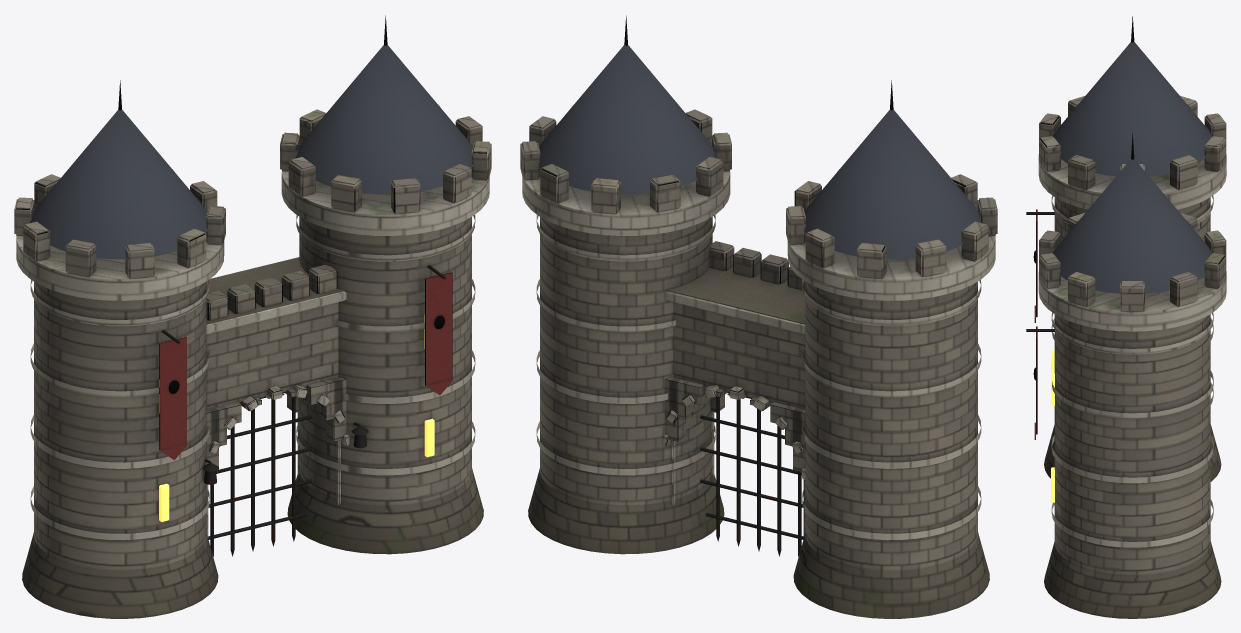
Rendered from edificio_portao_fortificado.glb.
3 renders of one model, left to right at view 1: azimuth 30°, elevation 25°; view 2: azimuth 150°, elevation 25°; view 3: azimuth 270°, elevation 25°, orthographic. The views are drawn at different scales.
Parts seen in each view (by area): view 1: edificio_portao_fortificado, edificio_portao_fortificado_grade; view 2: edificio_portao_fortificado, edificio_portao_fortificado_grade; view 3: edificio_portao_fortificado.
Part boxes in pixels (x1,y1,x2,y2): edificio_portao_fortificado: (14,15,491,618); edificio_portao_fortificado_grade: (208,392,311,556); edificio_portao_fortificado: (520,15,997,618); edificio_portao_fortificado_grade: (700,392,803,556); edificio_portao_fortificado: (1026,16,1226,618).
Size of the model in its own units: 13.15 by 14.2 by 5.65.
Materials: 4 (2 with a texture image).
